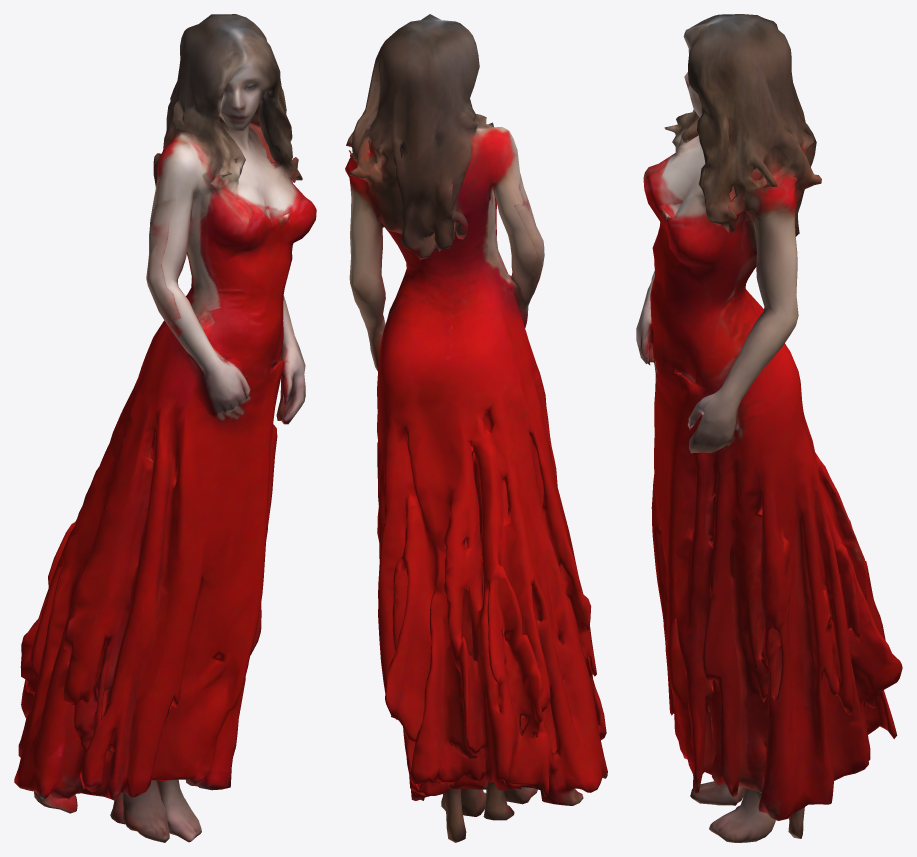
Rendered from duck.glb.
3 renders of one model, left to right at view 1: azimuth 30°, elevation 25°; view 2: azimuth 150°, elevation 25°; view 3: azimuth 270°, elevation 25°, orthographic. The views are drawn at different scales.
Bounding box in the file's own units: 0.6786 × 2.01 × 0.5725.
1 material, 1 textured.
